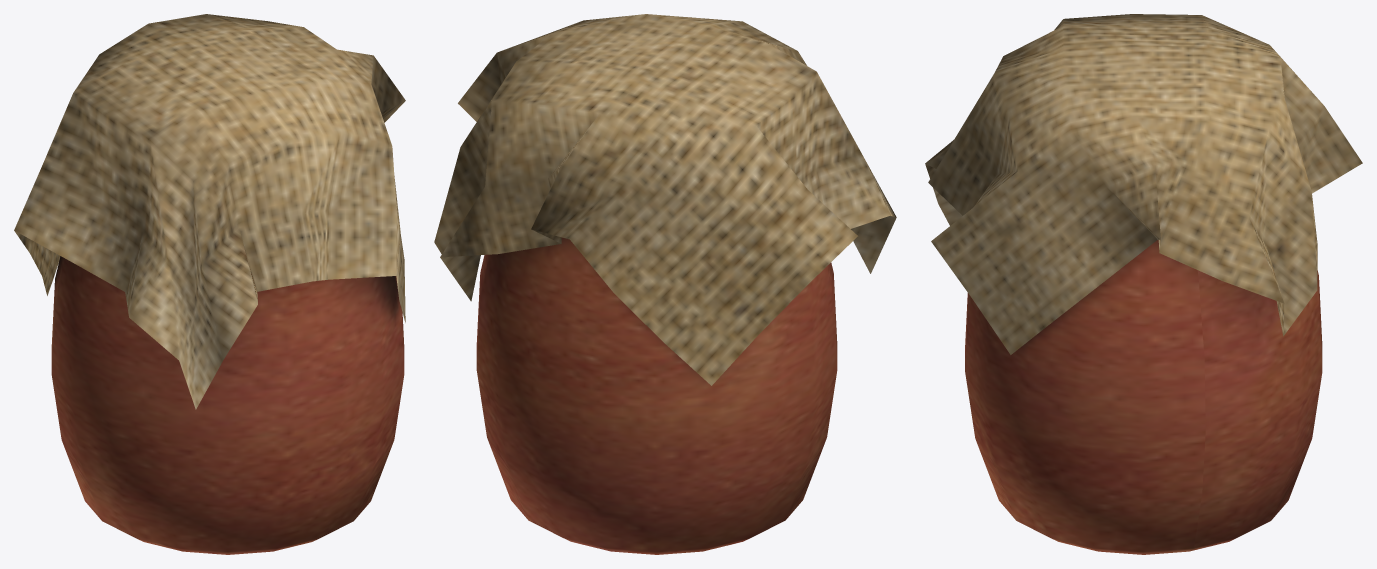
File: honey_pot.FBX
3 views of the same model, side by side, from view 1: azimuth 30°, elevation 25°; view 2: azimuth 150°, elevation 25°; view 3: azimuth 270°, elevation 25° (orthographic). The views are drawn at different scales.
Visible parts, largest first — view 1: honey_pot; view 2: honey_pot; view 3: honey_pot.
Part boxes in pixels (x1,y1,x2,y2): honey_pot: [14, 14, 405, 554]; honey_pot: [434, 14, 896, 554]; honey_pot: [925, 14, 1362, 554].
Size of the model in its own units: 44.41 by 47.59 by 42.42.
